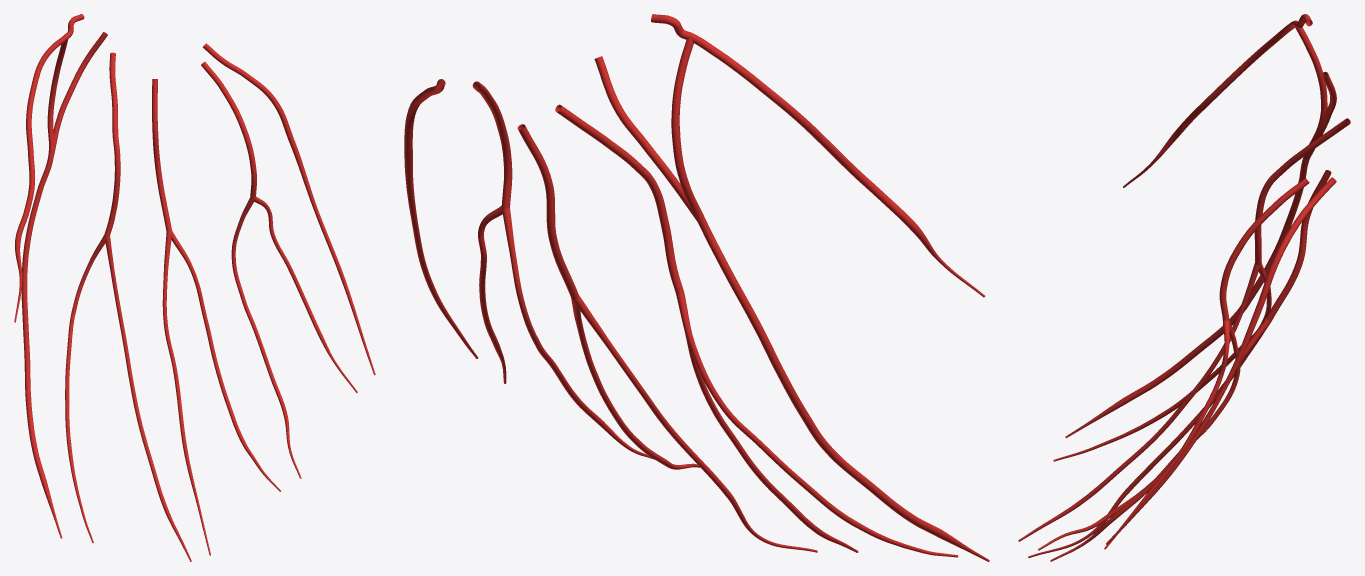
Rendered from circulatorio-palmar-digital-veins-r.glb.
The picture shows the model from 3 angles, left to right: view 1: azimuth 30°, elevation 25°; view 2: azimuth 150°, elevation 25°; view 3: azimuth 270°, elevation 25°; orthographic projection. The views are drawn at different scales.
Visible parts, largest first — view 1: Palmar digital veins.r; view 2: Palmar digital veins.r; view 3: Palmar digital veins.r.
Boxes of the visible parts, box(x1,y1,x2,y2) form: Palmar digital veins.r: box(14, 14, 375, 561); Palmar digital veins.r: box(404, 14, 989, 561); Palmar digital veins.r: box(1018, 14, 1350, 561).
Size of the model in its own units: 0.0999 by 0.1225 by 0.0692.
